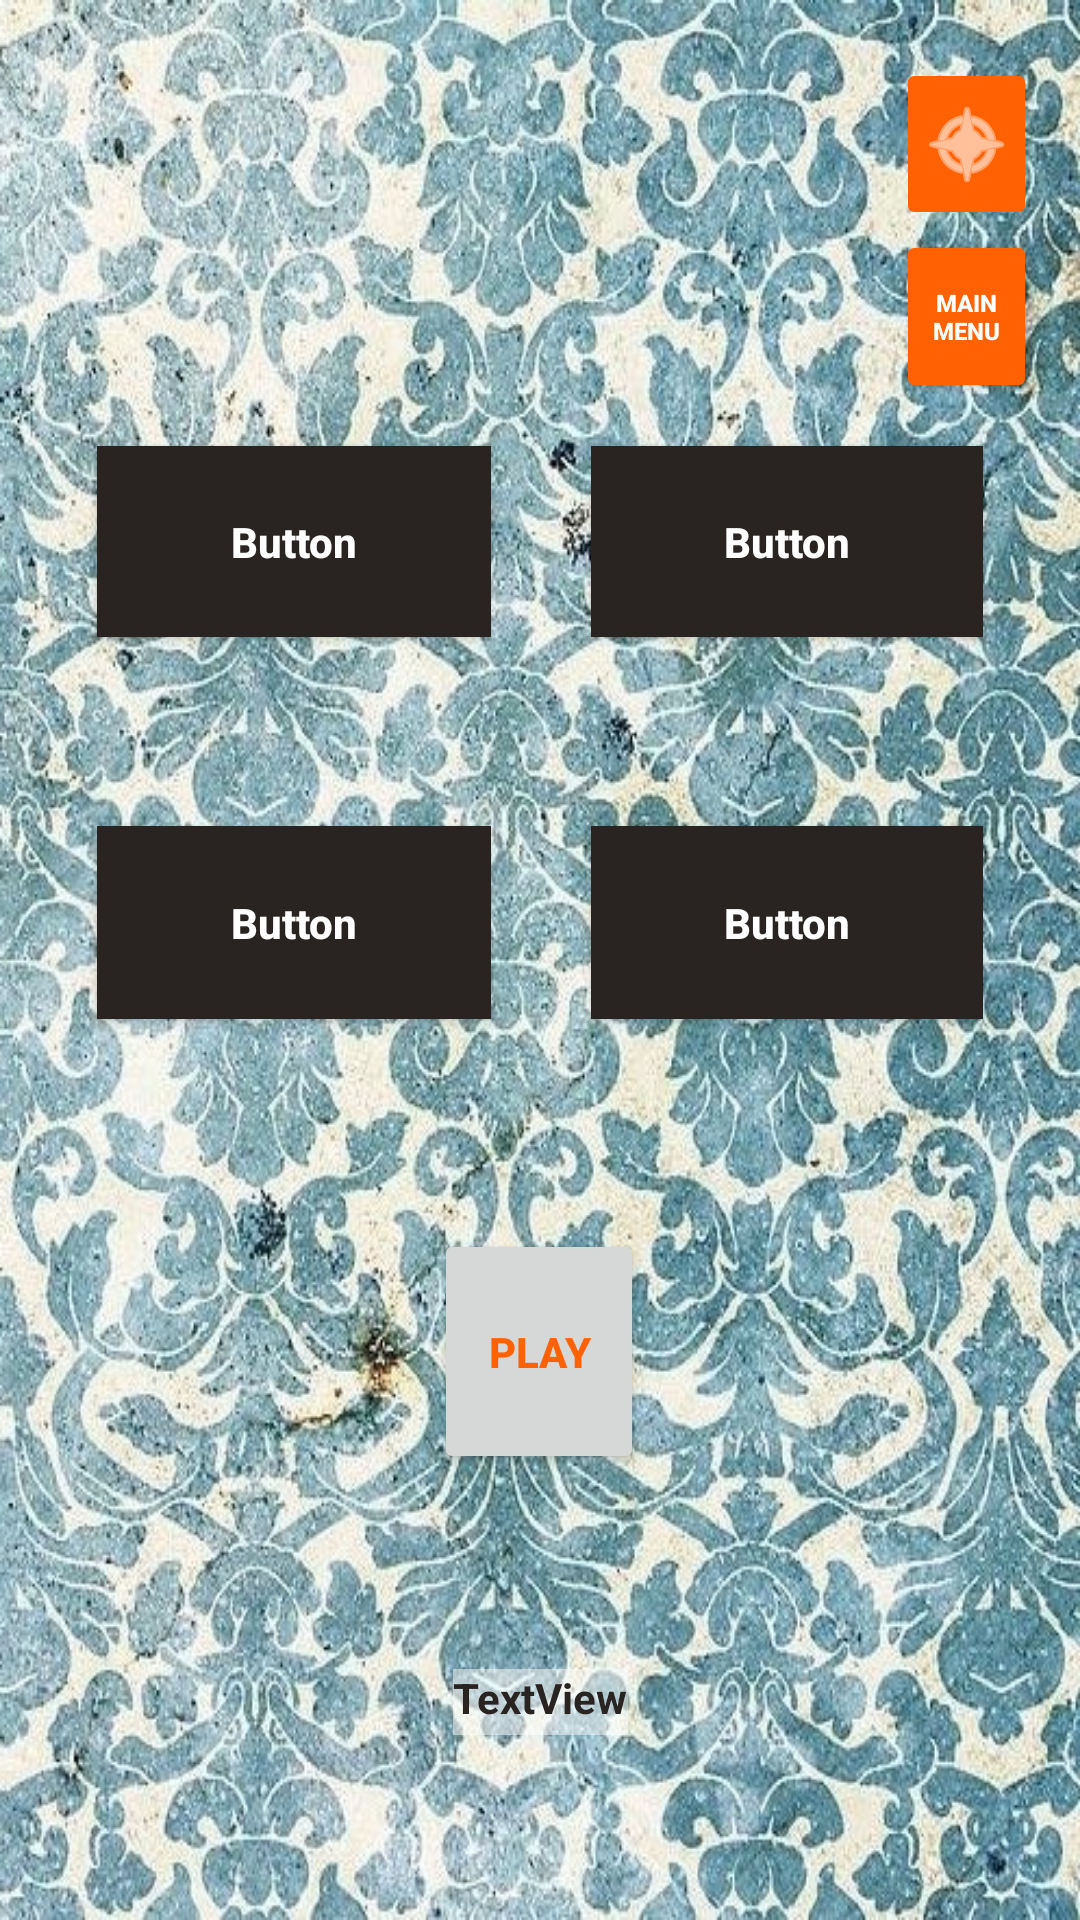

Where to tap for icons on this 1080x1920 app screen, as (x=x, y=y):
compass: (x=966, y=144)
